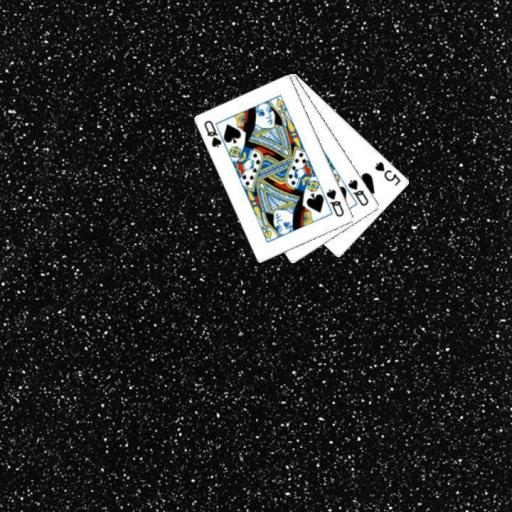card-corner: (372, 159, 402, 187), (345, 176, 370, 208), (322, 186, 346, 218), (202, 118, 224, 150)
